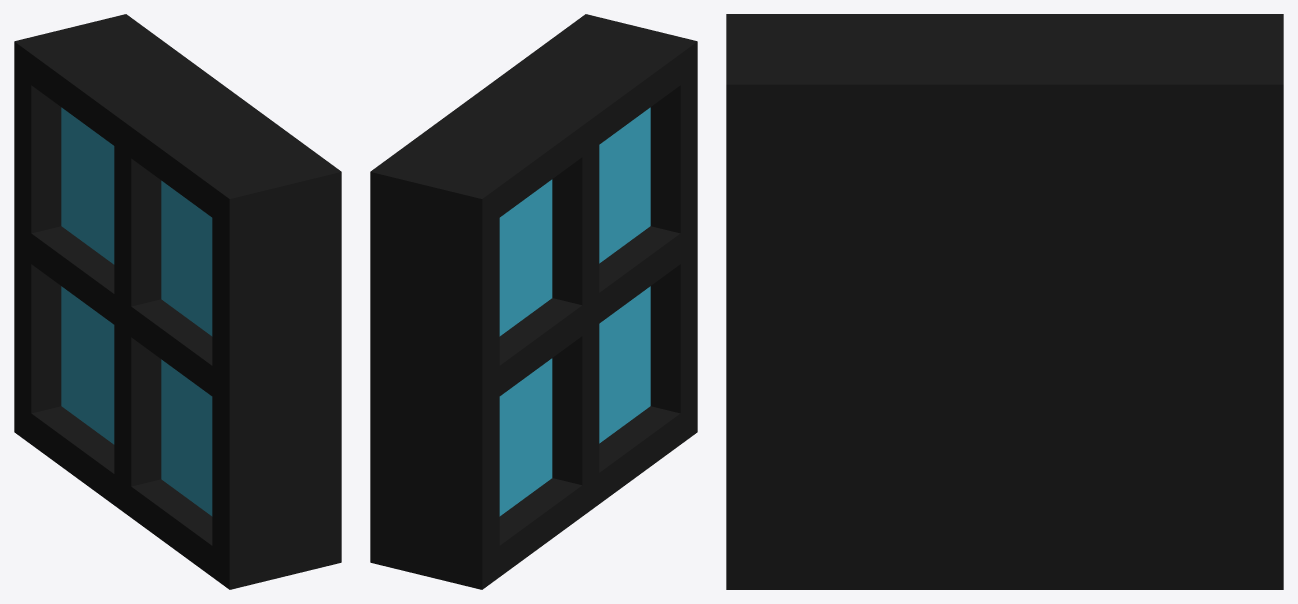
The model's file is Medium Window.fbx.
3 views of the same model, side by side, from view 1: azimuth 30°, elevation 25°; view 2: azimuth 150°, elevation 25°; view 3: azimuth 270°, elevation 25° (orthographic). The views are drawn at different scales.
Parts seen in each view (by area): view 1: Medium Window; view 2: Medium Window; view 3: Medium Window.
Part boxes in pixels (x1,y1,x2,y2): Medium Window: (14,14,341,589); Medium Window: (370,14,697,589); Medium Window: (726,14,1283,589).
Size of the model in its own units: 0.3 by 1 by 1.
